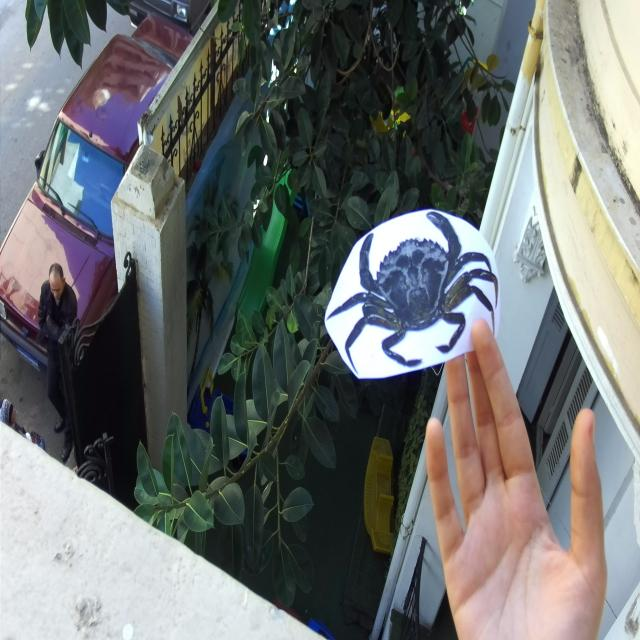European_Green_Crab: (318, 190, 505, 396)
